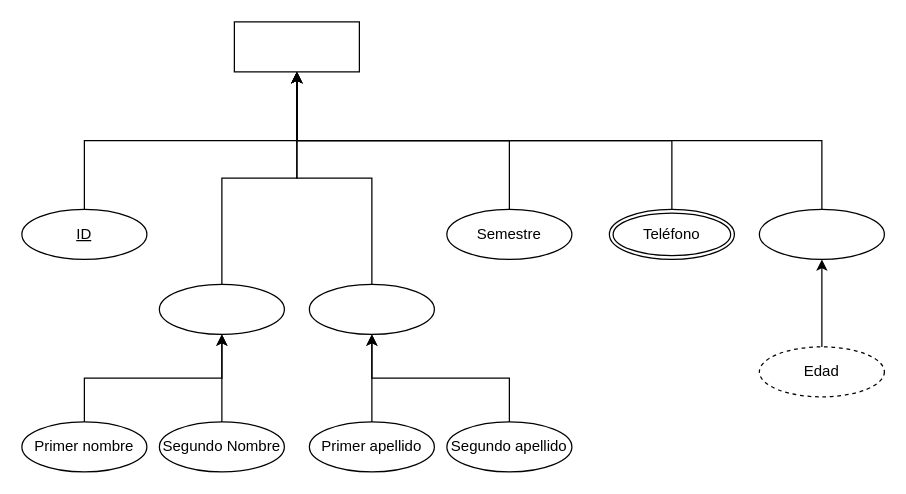
Some shapes in this 906 by 494 pixel diagram are drawn without their labels. Each missing label, with the centre of its shape:
"Apelllido" belongs at [371,308].
"Estudiantes" belongs at [296,46].
"Fecha nacimiento" belongs at [821,233].
"Nombre" belongs at [221,308].
